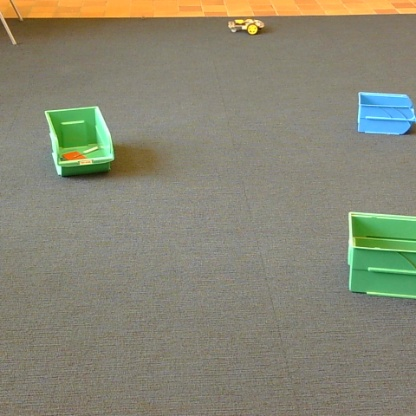robot: (228, 18, 264, 35)
